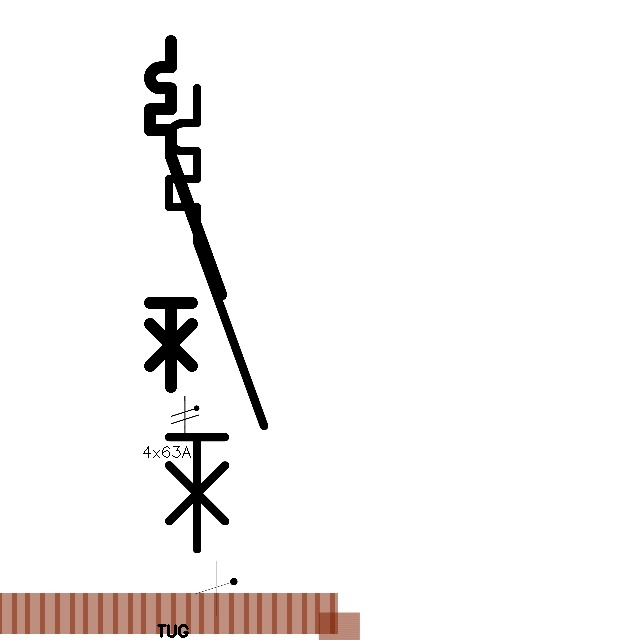interruptor_termomagnetico: (157, 76, 275, 561), (141, 32, 230, 395)
